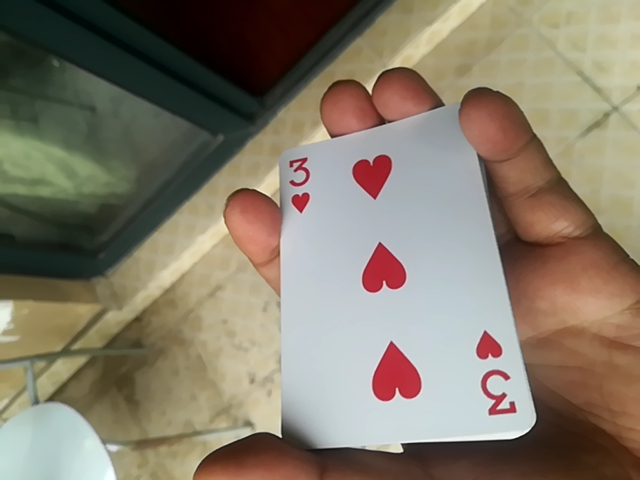hx 3: (274, 102, 533, 450)
